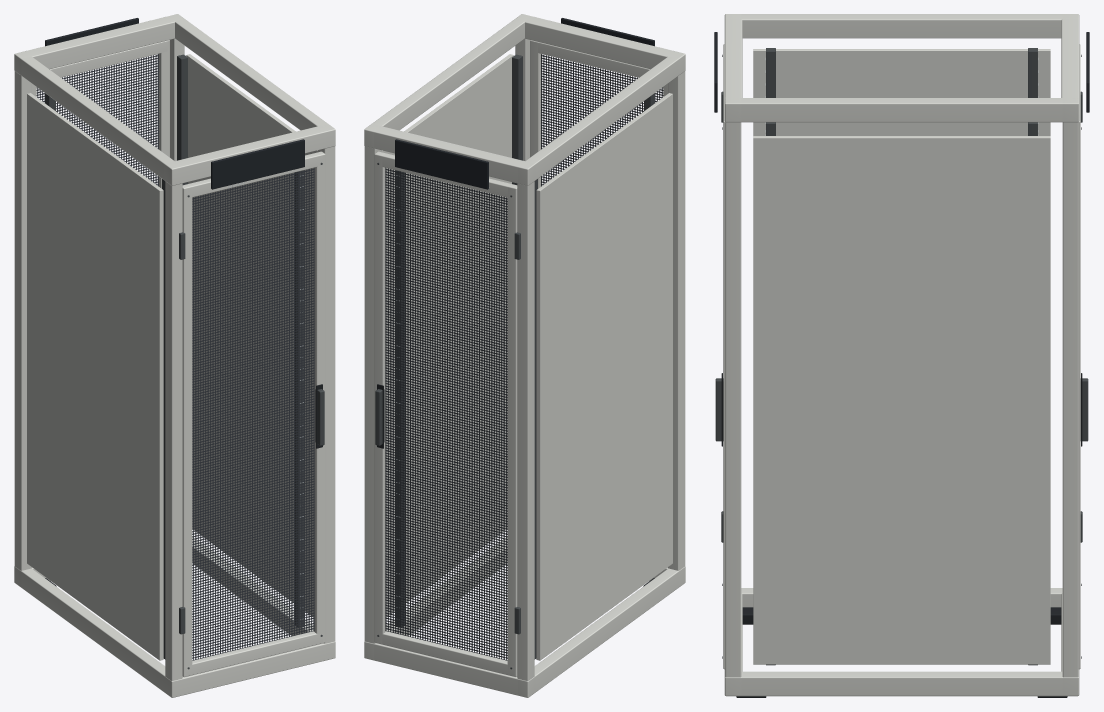
The model's file is rack.glb.
3 views of the same model, side by side, from view 1: azimuth 30°, elevation 25°; view 2: azimuth 150°, elevation 25°; view 3: azimuth 270°, elevation 25° (orthographic). The views are drawn at different scales.
Parts seen in each view (by area): view 1: WhiteSidePanels, Rear_perforated_screen, Frame_and_feet, Rear_door_hardware, Rails_U_ticks, Front_perforated_screen, RackPlaqueRear, Front_door_hardware, RackPlaqueFront; view 2: WhiteSidePanels, Front_perforated_screen, Frame_and_feet, Front_door_hardware, Rails_U_ticks, Rear_perforated_screen, RackPlaqueFront, Rear_door_hardware, RackPlaqueRear; view 3: WhiteSidePanels, Frame_and_feet, Front_door_hardware, Rear_door_hardware, Rails_U_ticks.
Part boxes in pixels (x1,y1,x2,y2): WhiteSidePanels: (27, 54, 317, 660); Rear_perforated_screen: (192, 167, 314, 660); Frame_and_feet: (14, 14, 335, 697); Rear_door_hardware: (179, 151, 325, 676); Rails_U_ticks: (45, 54, 304, 659); Front_perforated_screen: (36, 54, 158, 186); RackPlaqueRear: (211, 139, 304, 189); Front_door_hardware: (32, 40, 169, 188); RackPlaqueFront: (45, 18, 138, 46); WhiteSidePanels: (382, 54, 672, 660); Front_perforated_screen: (385, 167, 507, 660); Frame_and_feet: (364, 14, 685, 697); Front_door_hardware: (374, 151, 520, 676); Rails_U_ticks: (395, 54, 654, 659); Rear_perforated_screen: (541, 54, 663, 186); RackPlaqueFront: (395, 139, 488, 189); Rear_door_hardware: (530, 40, 667, 188); RackPlaqueRear: (561, 18, 654, 46); WhiteSidePanels: (753, 49, 1050, 664); Frame_and_feet: (724, 14, 1079, 697); Front_door_hardware: (1078, 44, 1088, 669); Rear_door_hardware: (715, 44, 725, 669); Rails_U_ticks: (765, 48, 1038, 665).
Bounding box in the file's own units: 0.6 × 1.87 × 1.06.
7 materials, 1 textured.
